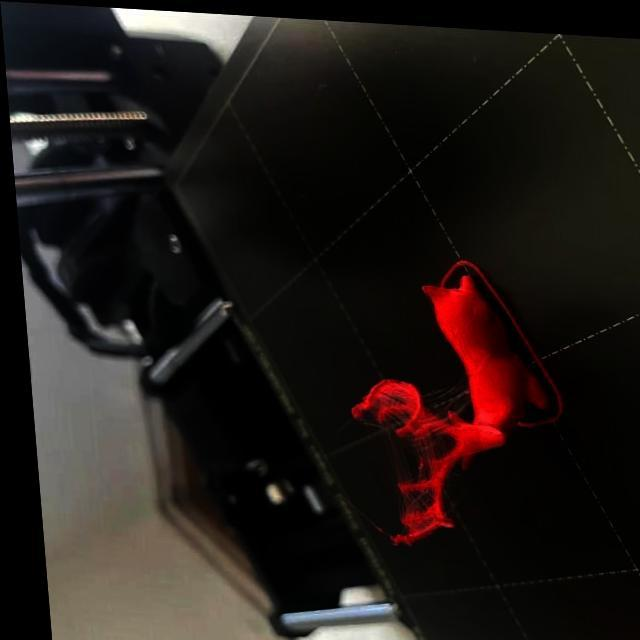stringing: (421, 376, 462, 412), (368, 380, 406, 408), (380, 428, 403, 474), (412, 424, 442, 458), (394, 484, 425, 511)
